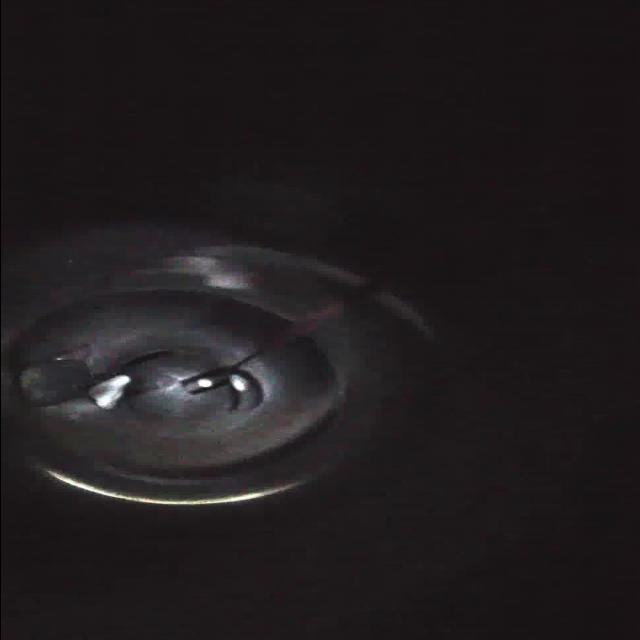impurity: (13, 357, 89, 411), (90, 370, 132, 412)
